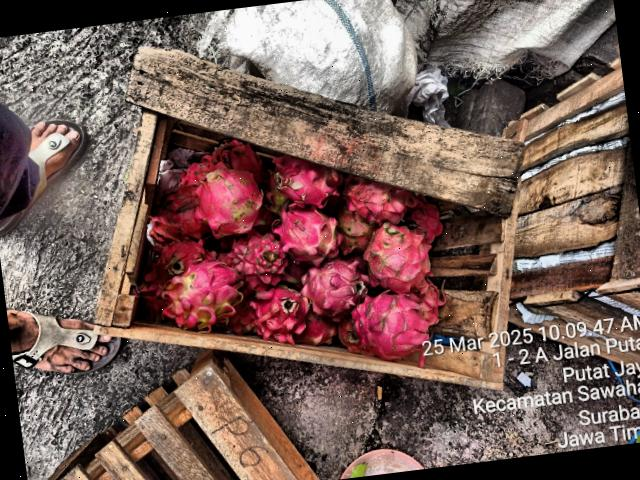buah-naga-belum-matang: (361, 218, 434, 296), (162, 262, 244, 328), (271, 200, 345, 267), (330, 202, 376, 260)
buah-naga-matang: (346, 286, 436, 366), (194, 164, 266, 235), (264, 145, 342, 210), (338, 167, 411, 229), (225, 228, 292, 294), (246, 280, 311, 343), (300, 255, 364, 318), (154, 191, 210, 244), (143, 238, 210, 278), (335, 317, 367, 354)
